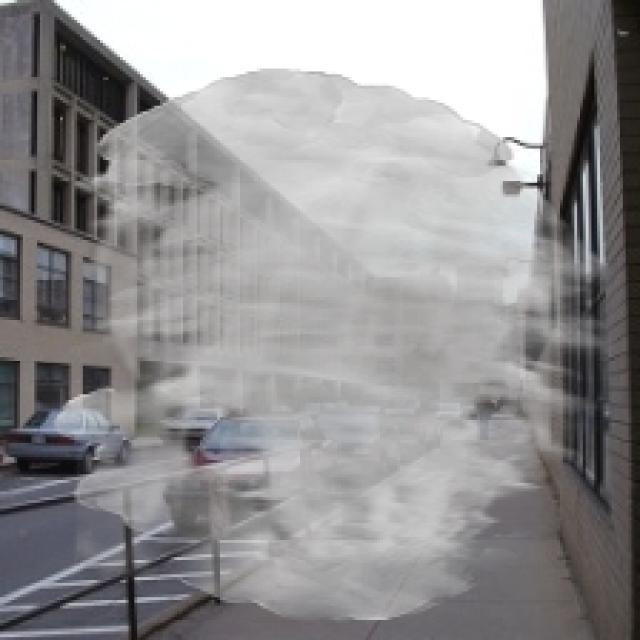Smoke: (52, 68, 618, 623)
